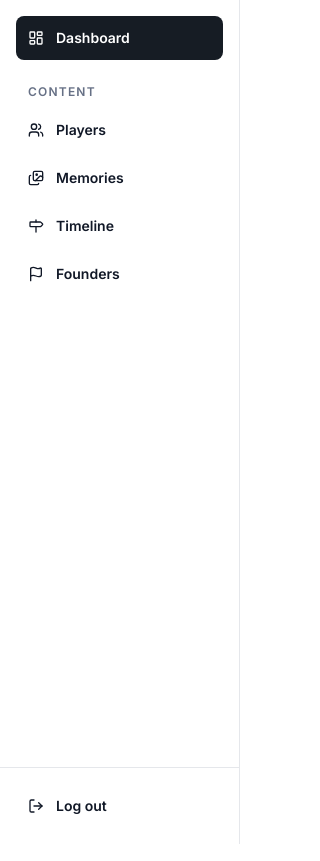
AdminSidebar logout › stays signed in and shows an error when logout fails
Click the button "Log out" at (120, 806), box [16, 784, 223, 828]
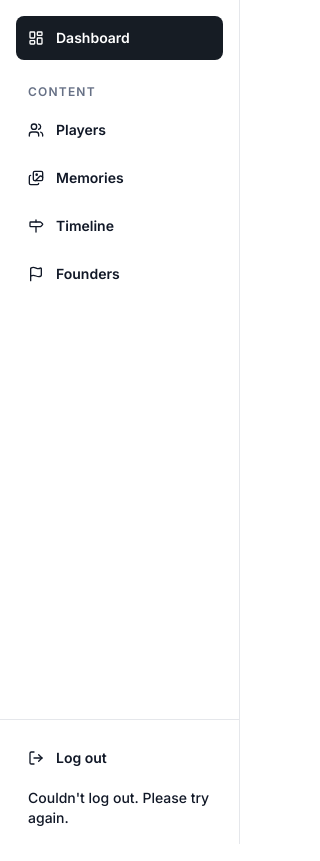
Expected: the button "Log out" is enabled, [16, 736, 223, 780]
Expected: the message reads "Couldn't log out. Please try again.", [28, 789, 209, 826]
